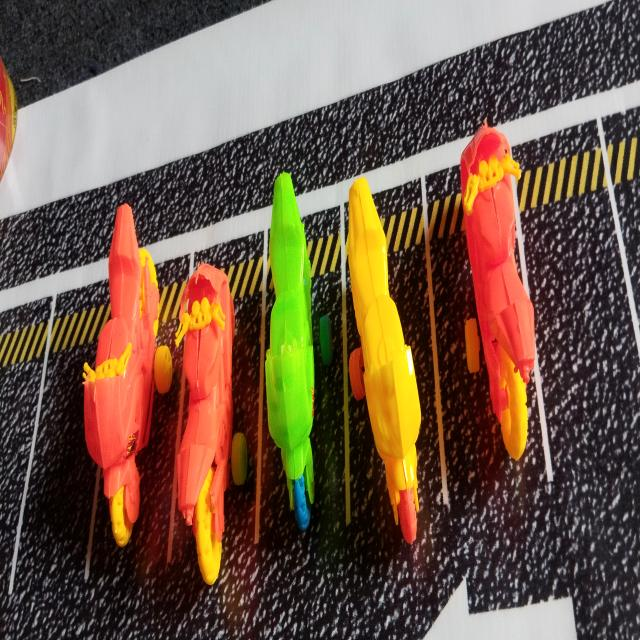occupied: (426, 123, 542, 498), (84, 204, 183, 577), (260, 173, 349, 575), (346, 180, 440, 557), (167, 264, 262, 585)
slots: (521, 191, 640, 480), (15, 341, 97, 597)
